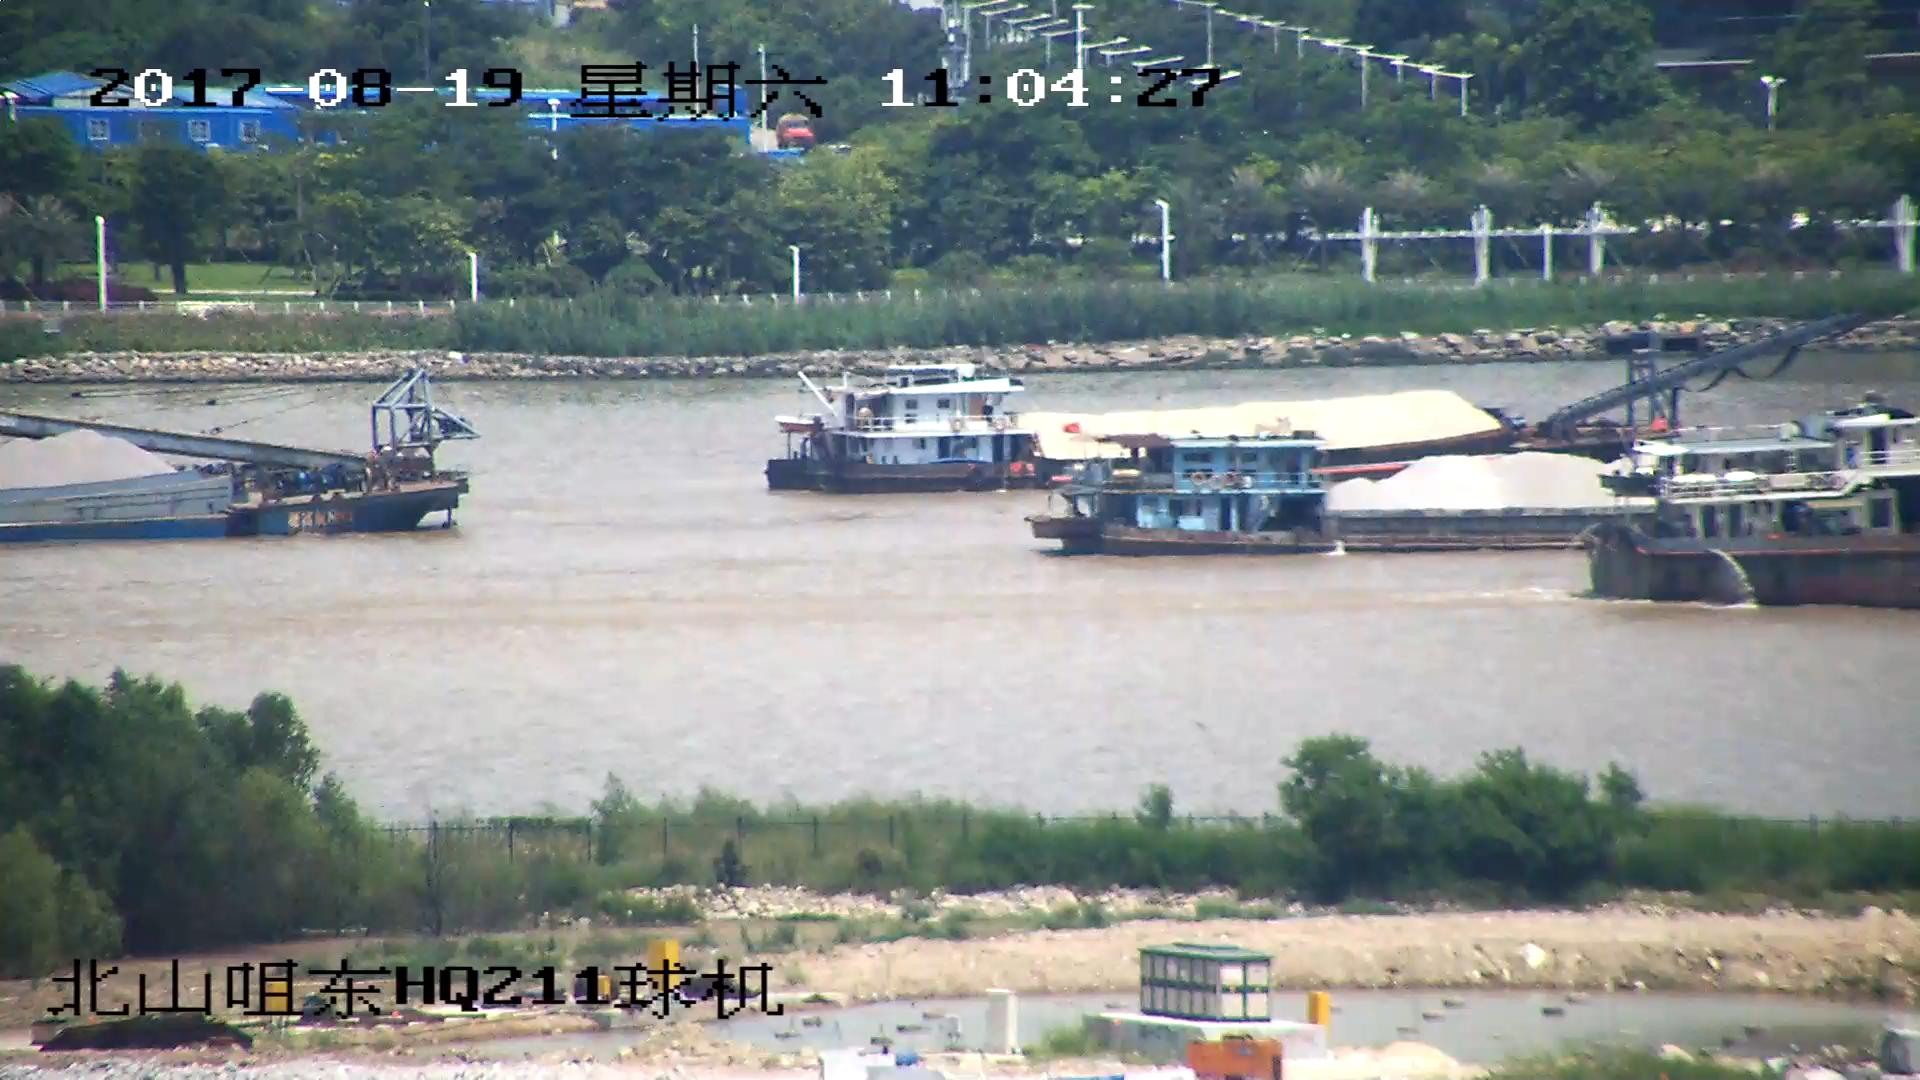ore carrier: (774, 306, 1879, 498), (1037, 437, 1920, 552), (1, 370, 471, 535)
